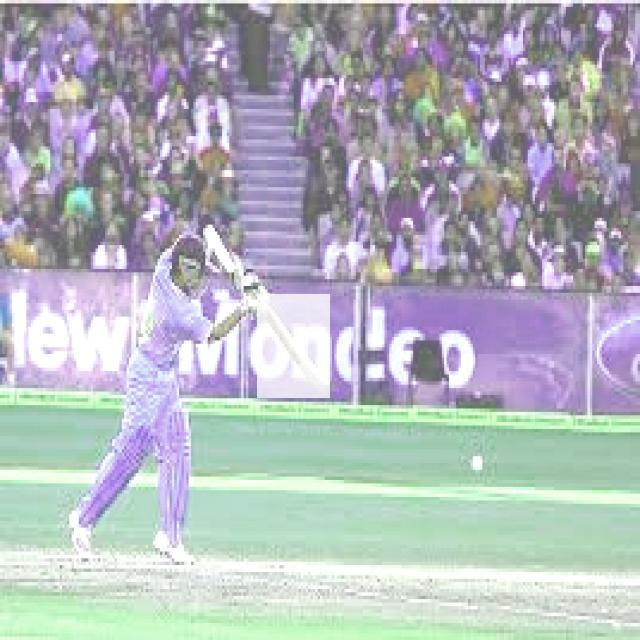bat: (251, 298, 339, 395)
toe: (310, 364, 335, 394)
